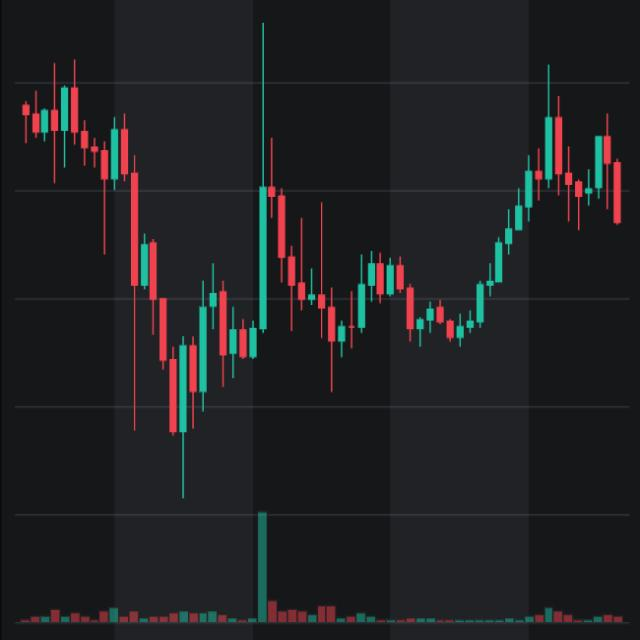Channel-down: (0, 41, 262, 518)
